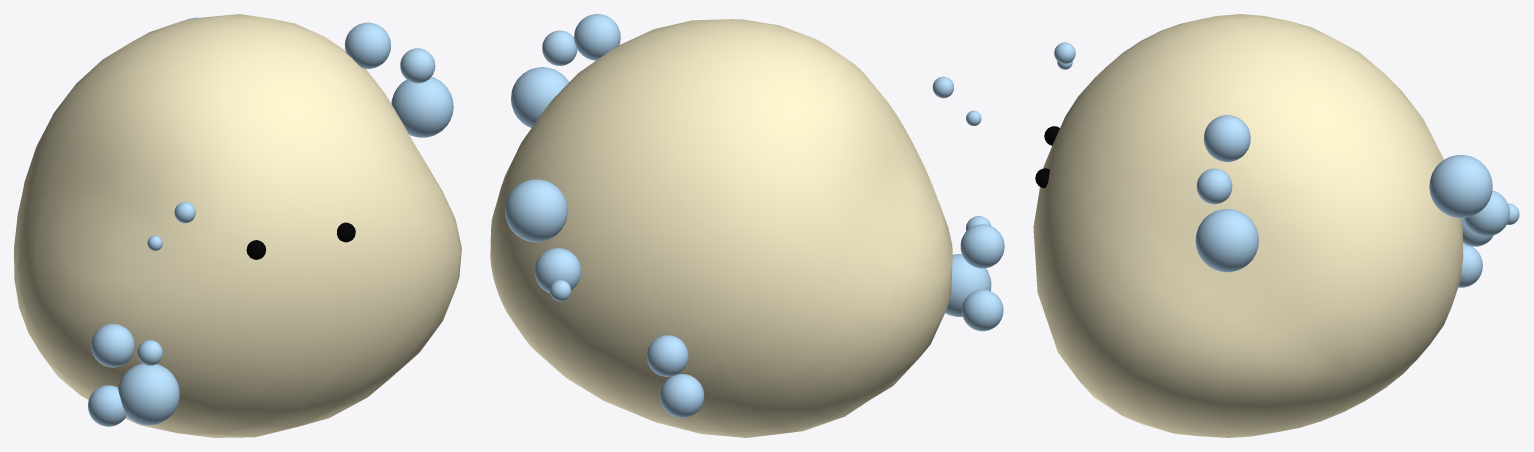
File: Roomie_bubble 2.glb
3 views of the same model, side by side, from view 1: azimuth 30°, elevation 25°; view 2: azimuth 150°, elevation 25°; view 3: azimuth 270°, elevation 25° (orthographic).
Parts seen in each view (by area): view 1: Body, Sphere.002, Sphere, Sphere.001, Sphere.003, Sphere.005, Sphere.006, Sphere.004; view 2: Body, Sphere.009, Sphere, Sphere.001, Sphere.003, Sphere.012, Sphere.002, Sphere.010, Sphere.013, Sphere.005, Sphere.006; view 3: Body, Sphere, Sphere.009, Sphere.001, Sphere.010, Sphere.006, Sphere.012.
Boxes of the visible parts, x1,y1,x2,y2 form: Body: (14,14,461,437); Sphere.002: (118,363,179,425); Sphere: (391,77,453,137); Sphere.001: (344,22,390,68); Sphere.003: (91,323,134,367); Sphere.005: (88,385,126,426); Sphere.006: (400,48,435,83); Sphere.004: (137,340,162,365); Body: (490,19,952,437); Sphere.009: (505,179,567,242); Sphere: (511,67,569,127); Sphere.001: (574,14,620,60); Sphere.003: (960,224,1004,268); Sphere.012: (660,374,704,417); Sphere.002: (945,254,991,316); Sphere.010: (534,248,581,293); Sphere.013: (646,335,688,376); Sphere.005: (961,289,1003,331); Sphere.006: (542,30,577,65); Body: (1033,14,1463,437); Sphere: (1195,209,1258,272); Sphere.009: (1429,154,1492,218); Sphere.001: (1203,115,1250,161); Sphere.010: (1463,190,1509,236); Sphere.006: (1196,168,1232,204); Sphere.012: (1458,243,1482,287).
Bounding box in the file's own units: 2.45 × 2.08 × 2.42.
